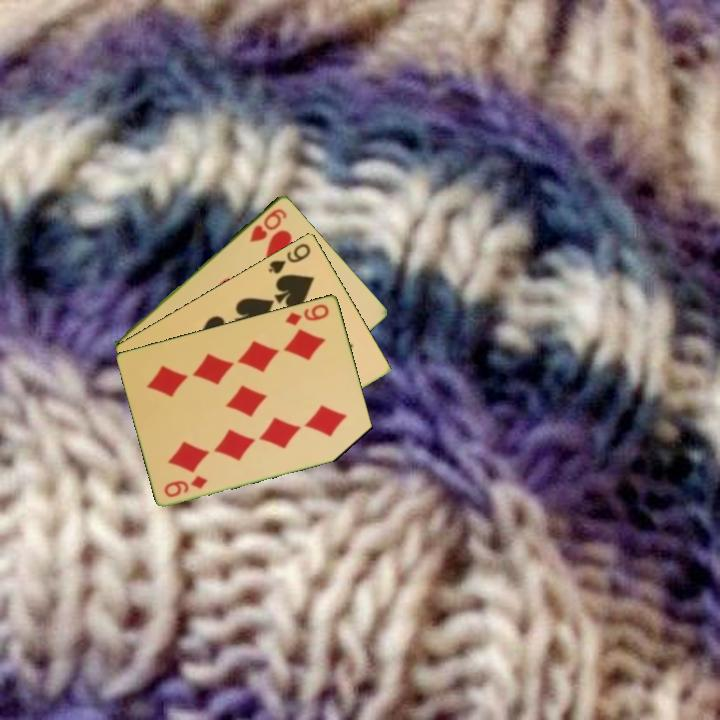6h: (246, 204, 290, 245)
9d: (161, 471, 210, 500), (282, 300, 332, 328)
9s: (265, 239, 314, 276)
